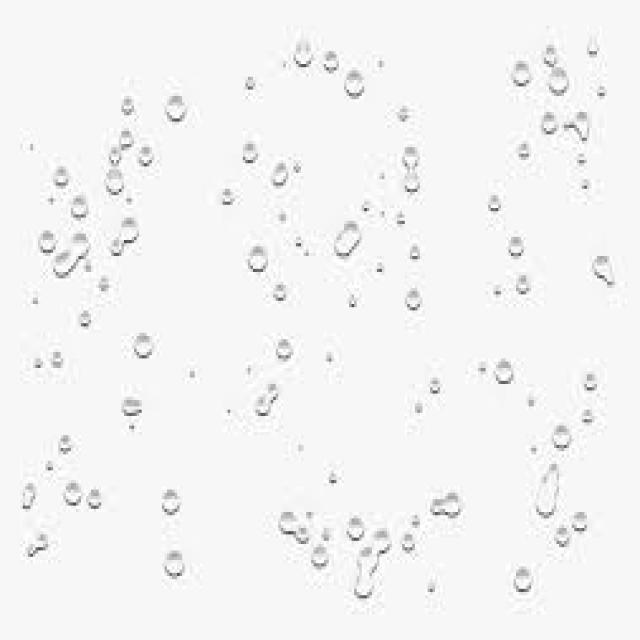raindrop: (50, 227, 94, 286), (324, 212, 368, 266), (102, 218, 148, 269), (156, 78, 194, 136), (534, 458, 563, 522), (510, 563, 547, 610), (587, 250, 622, 295), (546, 416, 578, 462), (126, 322, 157, 369), (160, 546, 193, 590), (248, 234, 276, 284), (120, 386, 151, 429), (57, 473, 89, 514), (494, 352, 522, 398), (286, 31, 317, 72), (340, 66, 370, 108), (544, 59, 574, 101), (264, 158, 292, 196), (158, 482, 184, 522), (510, 54, 534, 96), (66, 191, 94, 225), (403, 278, 427, 316), (99, 166, 124, 202), (48, 166, 74, 193)
